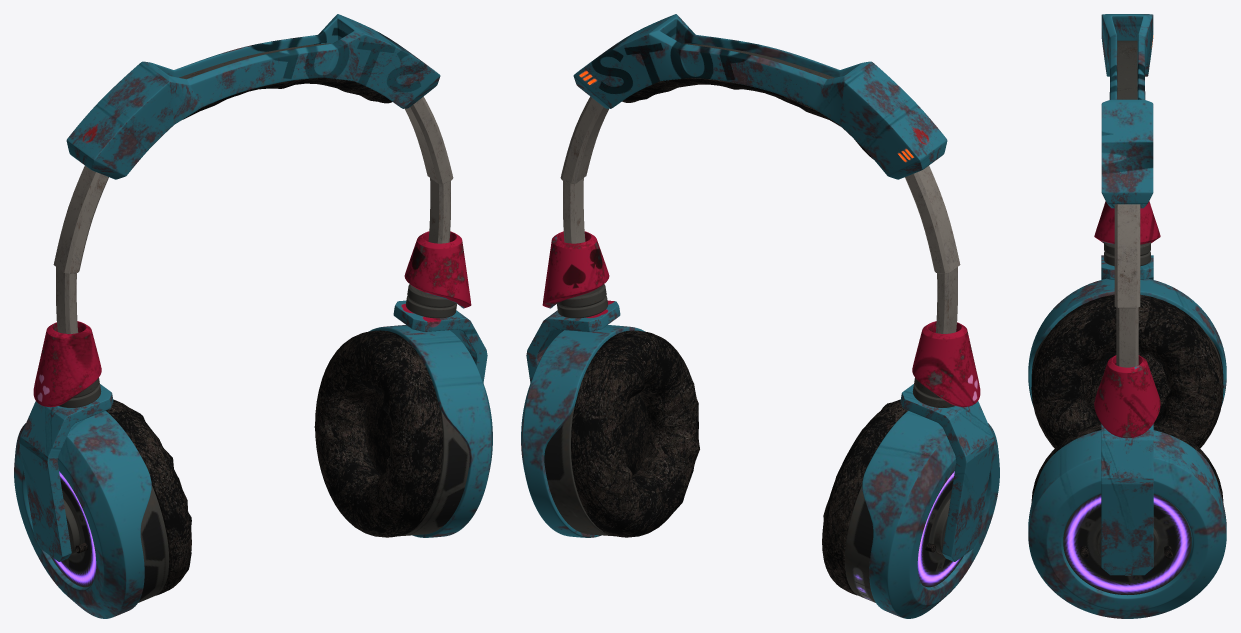
File: headphones_cyberpunk_tyle.glb
3 renders of one model, left to right at view 1: azimuth 30°, elevation 25°; view 2: azimuth 150°, elevation 25°; view 3: azimuth 270°, elevation 25°, orthographic. The views are drawn at different scales.
Parts seen in each view (by area): view 1: Almohadilla (×3), Cir_01 (×2), Arco_01, Soporte (×2), Cir_03, Arco_04, Arco_05, Arco_06, Arco_03, Cir_02, Parlante, Eje; view 2: Almohadilla (×3), Cir_01 (×2), Arco_01, Soporte (×2), Cir_03, Arco_04, Arco_05, Arco_06, Arco_03, Cir_02, Parlante, Eje; view 3: Cir_01 (×2), Almohadilla (×2), Arco_01, Soporte (×2), Cir_02, Arco_03, Arco_06, Parlante, Arco_02, Arco_05, Eje.
Part boxes in pixels (x1=…): Almohadilla (×3): x1=106, y1=77, x2=442, y2=595; Cir_01 (×2): x1=14, y1=325, x2=492, y2=618; Arco_01: x1=66, y1=14, x2=440, y2=179; Soporte (×2): x1=19, y1=300, x2=487, y2=561; Cir_03: x1=50, y1=471, x2=169, y2=602; Arco_04: x1=53, y1=165, x2=108, y2=333; Arco_05: x1=33, y1=321, x2=101, y2=407; Arco_06: x1=404, y1=231, x2=471, y2=308; Arco_03: x1=405, y1=96, x2=453, y2=243; Cir_02: x1=399, y1=406, x2=469, y2=536; Parlante: x1=365, y1=391, x2=392, y2=474; Eje: x1=406, y1=284, x2=456, y2=318; Almohadilla (×3): x1=571, y1=77, x2=907, y2=595; Cir_01 (×2): x1=521, y1=325, x2=999, y2=618; Arco_01: x1=573, y1=14, x2=947, y2=179; Soporte (×2): x1=526, y1=300, x2=994, y2=561; Cir_03: x1=844, y1=471, x2=963, y2=602; Arco_04: x1=905, y1=165, x2=960, y2=333; Arco_05: x1=912, y1=321, x2=980, y2=407; Arco_06: x1=542, y1=231, x2=609, y2=308; Arco_03: x1=560, y1=96, x2=608, y2=243; Cir_02: x1=544, y1=406, x2=614, y2=536; Parlante: x1=621, y1=393, x2=648, y2=475; Eje: x1=557, y1=284, x2=607, y2=318; Cir_01 (×2): x1=1028, y1=278, x2=1226, y2=618; Almohadilla (×2): x1=1031, y1=294, x2=1223, y2=503; Arco_01: x1=1101, y1=14, x2=1153, y2=208; Soporte (×2): x1=1101, y1=255, x2=1153, y2=575; Cir_02: x1=1063, y1=494, x2=1191, y2=594; Arco_03: x1=1114, y1=204, x2=1140, y2=367; Arco_06: x1=1094, y1=355, x2=1160, y2=437; Parlante: x1=1085, y1=352, x2=1170, y2=415; Arco_02: x1=1117, y1=40, x2=1137, y2=99; Arco_05: x1=1094, y1=201, x2=1160, y2=244; Eje: x1=1104, y1=242, x2=1150, y2=266.
Bounding box in the file's own units: 4.7 × 5.34 × 1.98.
Materials: 3 (3 with a texture image).
